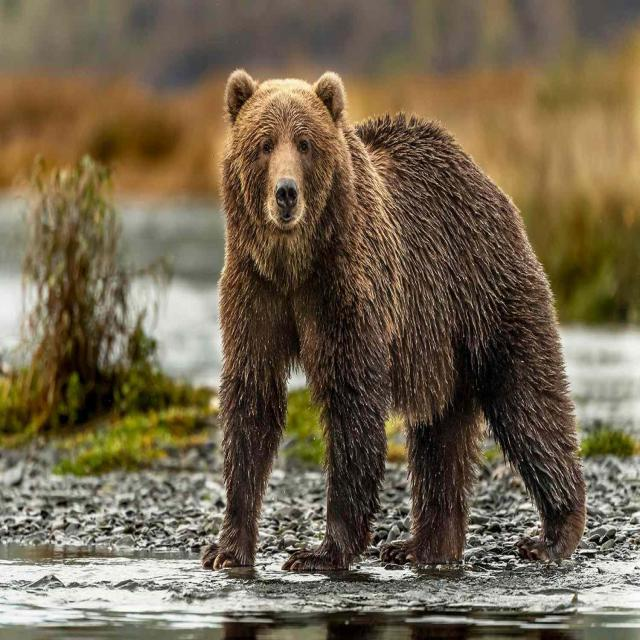Bear: (200, 70, 587, 584)
